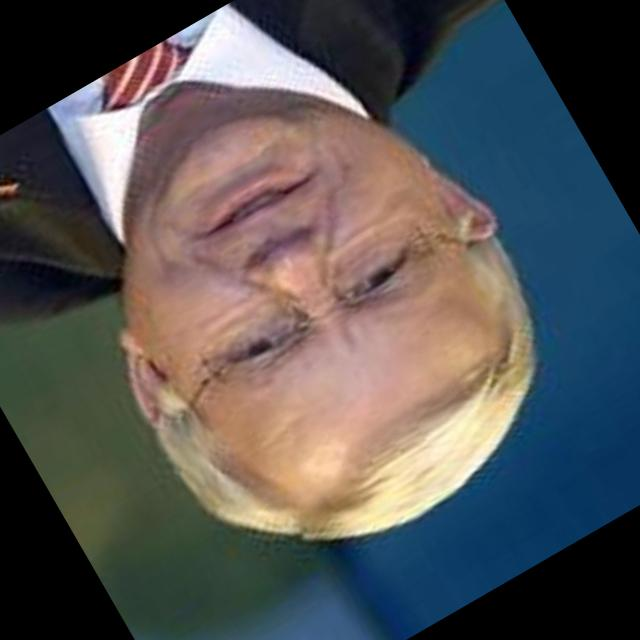bareface: (66, 26, 616, 604)
